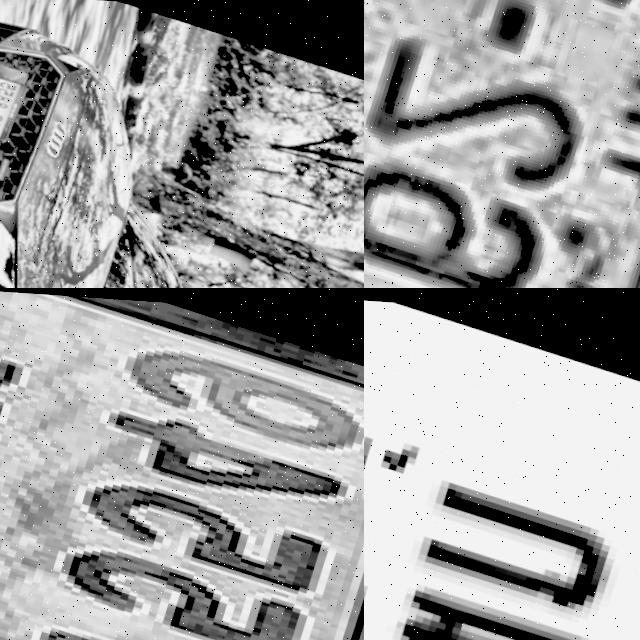license-plate: (0, 288, 364, 640), (364, 288, 640, 640), (364, 0, 640, 288), (0, 59, 29, 141)
